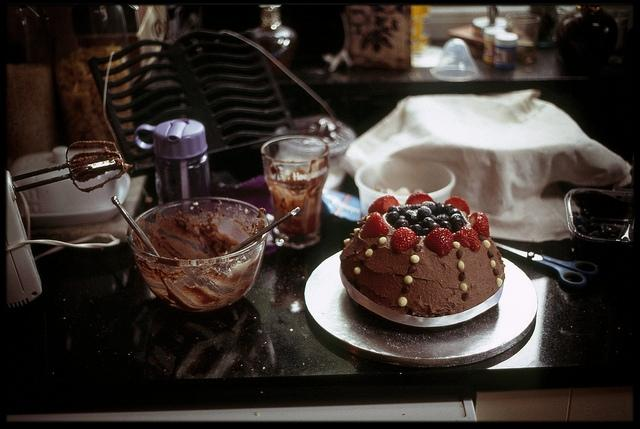blueberry: (422, 201, 438, 215), (440, 220, 454, 234), (418, 206, 432, 220), (406, 211, 419, 225), (394, 218, 410, 229), (451, 218, 464, 231), (446, 208, 462, 218), (410, 224, 423, 236), (435, 214, 450, 224), (434, 202, 445, 215), (442, 204, 454, 215), (428, 223, 441, 233), (424, 217, 434, 227), (388, 206, 400, 214), (410, 204, 421, 210)
strawberry: (423, 228, 454, 256), (391, 227, 420, 254), (360, 212, 389, 238), (454, 227, 481, 252), (368, 194, 399, 214), (468, 212, 490, 238), (445, 196, 470, 216), (404, 192, 434, 205)
